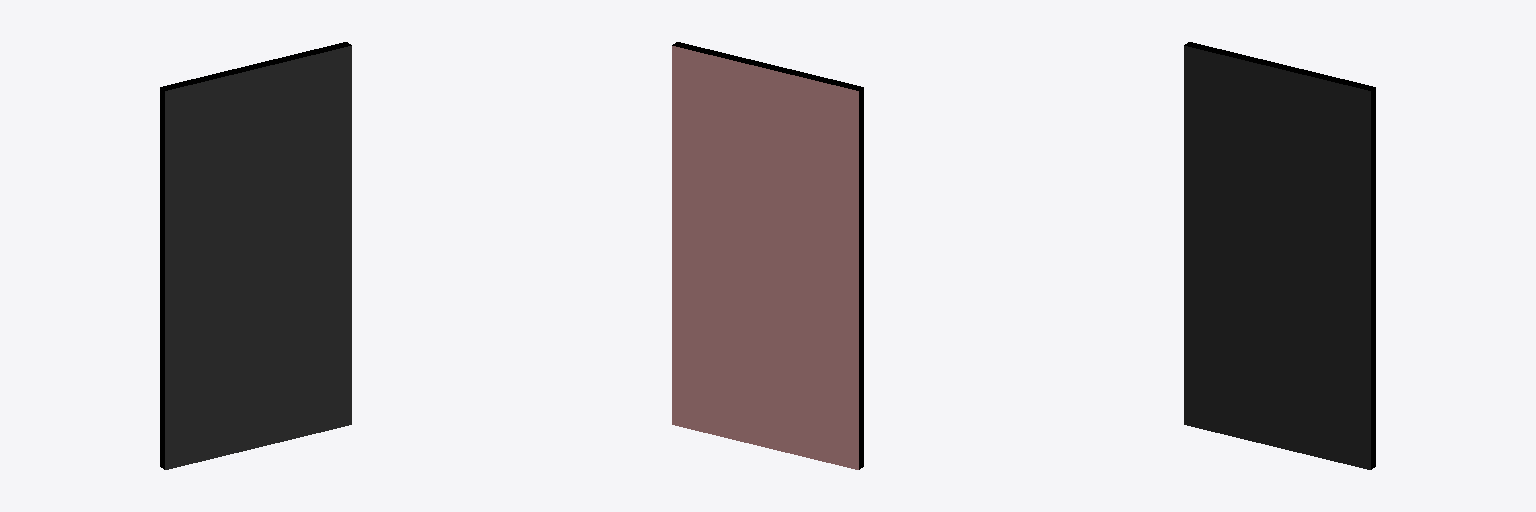
File: OfficeFrontWall.obj
The picture shows the model from 3 angles: view 1: azimuth 30°, elevation 25°; view 2: azimuth 150°, elevation 25°; view 3: azimuth 330°, elevation 25°; orthographic projection.
Parts seen in each view (by area): view 1: OfficeFrontWall; view 2: OfficeFrontWall; view 3: OfficeFrontWall.
Boxes of the visible parts, x1,y1,x2,y2 form: OfficeFrontWall: [160, 42, 351, 469]; OfficeFrontWall: [672, 42, 863, 469]; OfficeFrontWall: [1184, 42, 1375, 469].
Size of the model in its own units: 2 by 3.87 by 0.1.